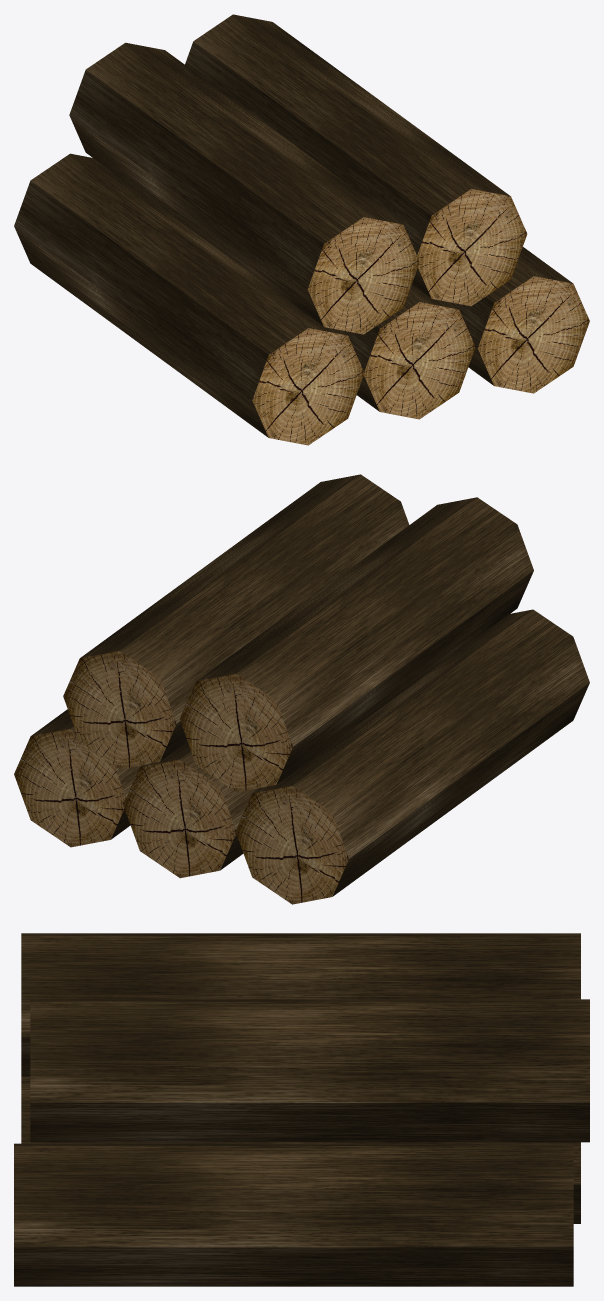
Rendered from WoodStack.obj.
The picture shows the model from 3 angles, top to bottom: view 1: azimuth 30°, elevation 25°; view 2: azimuth 150°, elevation 25°; view 3: azimuth 270°, elevation 25°; orthographic projection. The views are drawn at different scales.
Visible parts, largest first — view 1: Cylinder.002_Cylinder.002_Wood, Cylinder_Cylinder_Wood, Cylinder.004_Cylinder.004_Wood, Cylinder.001_Cylinder.001_Wood, Cylinder.003_Cylinder.003_Wood; view 2: Cylinder.002_Cylinder.002_Wood, Cylinder_Cylinder_Wood, Cylinder.004_Cylinder.004_Wood, Cylinder.003_Cylinder.003_Wood, Cylinder.001_Cylinder.001_Wood; view 3: Cylinder.001_Cylinder.001_Wood, Cylinder.004_Cylinder.004_Wood, Cylinder.002_Cylinder.002_Wood, Cylinder.003_Cylinder.003_Wood.
Boxes of the visible parts, left/top/right/bottom form: Cylinder.002_Cylinder.002_Wood: left=69, top=42, right=419, bottom=334; Cylinder_Cylinder_Wood: left=14, top=153, right=364, bottom=445; Cylinder.004_Cylinder.004_Wood: left=185, top=14, right=527, bottom=306; Cylinder.001_Cylinder.001_Wood: left=450, top=247, right=589, bottom=393; Cylinder.003_Cylinder.003_Wood: left=341, top=284, right=474, bottom=419; Cylinder.002_Cylinder.002_Wood: left=180, top=497, right=533, bottom=792; Cylinder_Cylinder_Wood: left=235, top=609, right=589, bottom=904; Cylinder.004_Cylinder.004_Wood: left=63, top=474, right=409, bottom=769; Cylinder.003_Cylinder.003_Wood: left=123, top=742, right=258, bottom=878; Cylinder.001_Cylinder.001_Wood: left=14, top=709, right=141, bottom=847; Cylinder.001_Cylinder.001_Wood: left=14, top=1143, right=573, bottom=1286; Cylinder.004_Cylinder.004_Wood: left=30, top=999, right=589, bottom=1142; Cylinder.002_Cylinder.002_Wood: left=21, top=933, right=580, bottom=1076; Cylinder.003_Cylinder.003_Wood: left=21, top=1081, right=580, bottom=1223.
Bounding box in the file's own units: 1.51 × 0.9288 × 1.91.
1 material, 1 textured.
